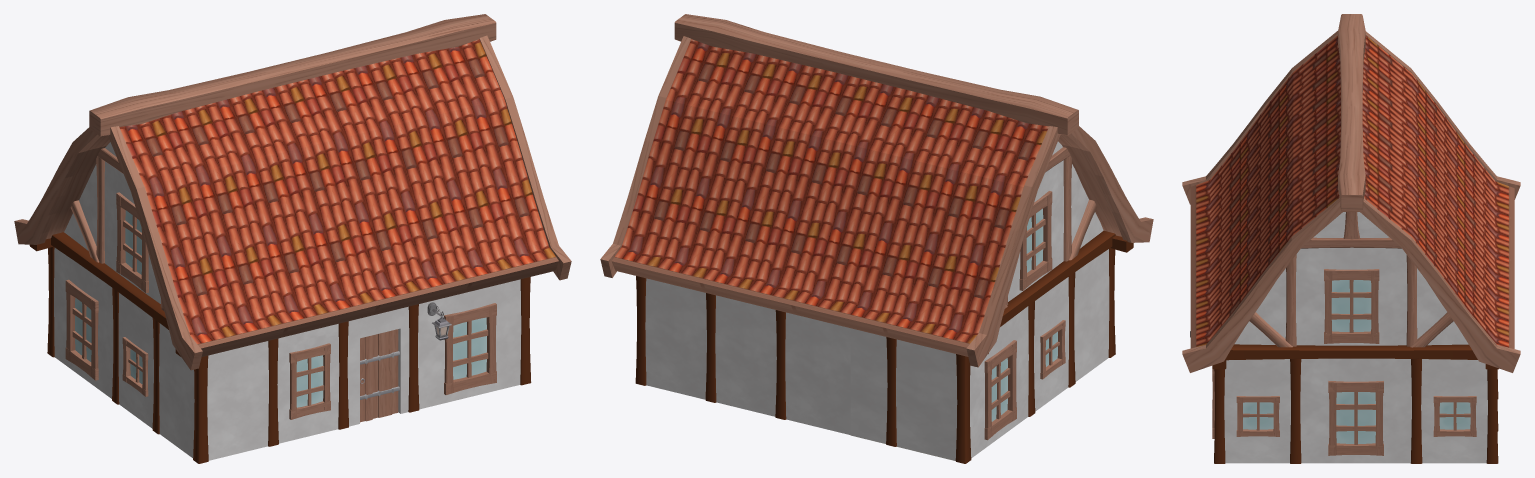
File: house_02.fbx
3 renders of one model, left to right at view 1: azimuth 30°, elevation 25°; view 2: azimuth 150°, elevation 25°; view 3: azimuth 270°, elevation 25°, orthographic. The views are drawn at different scales.
Parts seen in each view (by area): view 1: roof_03_026, roof_03_025, roof_03_027, roof_03_024, wall_05_002, support_012, cover_03_004, wall_05_007, wall_03_001, wall_013, wall_04_001, wall_05_008 (+15 smaller); view 2: roof_03_029, roof_03_030, roof_03_028, roof_03_031, wall_03_003, support_012, wall_03_004, cover_03_004, wall_03_007, wall_03_006, wall_05_007, wall_05_008 (+15 smaller); view 3: wall_05_001, wall_05_009, cover_03_003, wall_02_001, wall_02_002, roof_03_030, roof_03_029, roof_03_026, roof_03_025, roof_03_031, roof_03_024, roof_03_028 (+13 smaller).
Part boxes in pixels (x1,y1,x2,y2): roof_03_026: [297, 60, 469, 314]; roof_03_025: [206, 82, 377, 337]; roof_03_027: [390, 39, 558, 292]; roof_03_024: [119, 105, 285, 356]; wall_05_002: [418, 279, 521, 409]; support_012: [89, 14, 496, 136]; cover_03_004: [14, 126, 202, 370]; wall_05_007: [54, 248, 113, 398]; wall_03_001: [207, 341, 268, 460]; wall_013: [277, 324, 339, 443]; wall_04_001: [347, 306, 409, 426]; wall_05_008: [104, 161, 160, 303]; roof_03_029: [700, 60, 871, 314]; roof_03_030: [791, 81, 962, 336]; roof_03_028: [611, 39, 780, 292]; roof_03_031: [883, 104, 1048, 356]; wall_03_003: [850, 328, 957, 460]; support_012: [674, 14, 1078, 135]; wall_03_004: [785, 312, 850, 434]; cover_03_004: [966, 126, 1153, 367]; wall_03_007: [715, 295, 776, 416]; wall_03_006: [645, 278, 706, 399]; wall_05_007: [970, 306, 1028, 458]; wall_05_008: [1008, 160, 1063, 301]; wall_05_001: [1300, 358, 1411, 463]; wall_05_009: [1296, 247, 1407, 345]; cover_03_003: [1182, 197, 1520, 372]; wall_02_001: [1224, 359, 1290, 463]; wall_02_002: [1421, 359, 1487, 463]; roof_03_030: [1362, 73, 1514, 269]; roof_03_029: [1362, 115, 1514, 311]; roof_03_026: [1190, 115, 1340, 310]; roof_03_025: [1190, 73, 1340, 268]; roof_03_031: [1363, 35, 1514, 227]; roof_03_024: [1190, 35, 1340, 226]; roof_03_028: [1363, 158, 1514, 348].
Bounding box in the file's own units: 1068 × 790 × 844.
